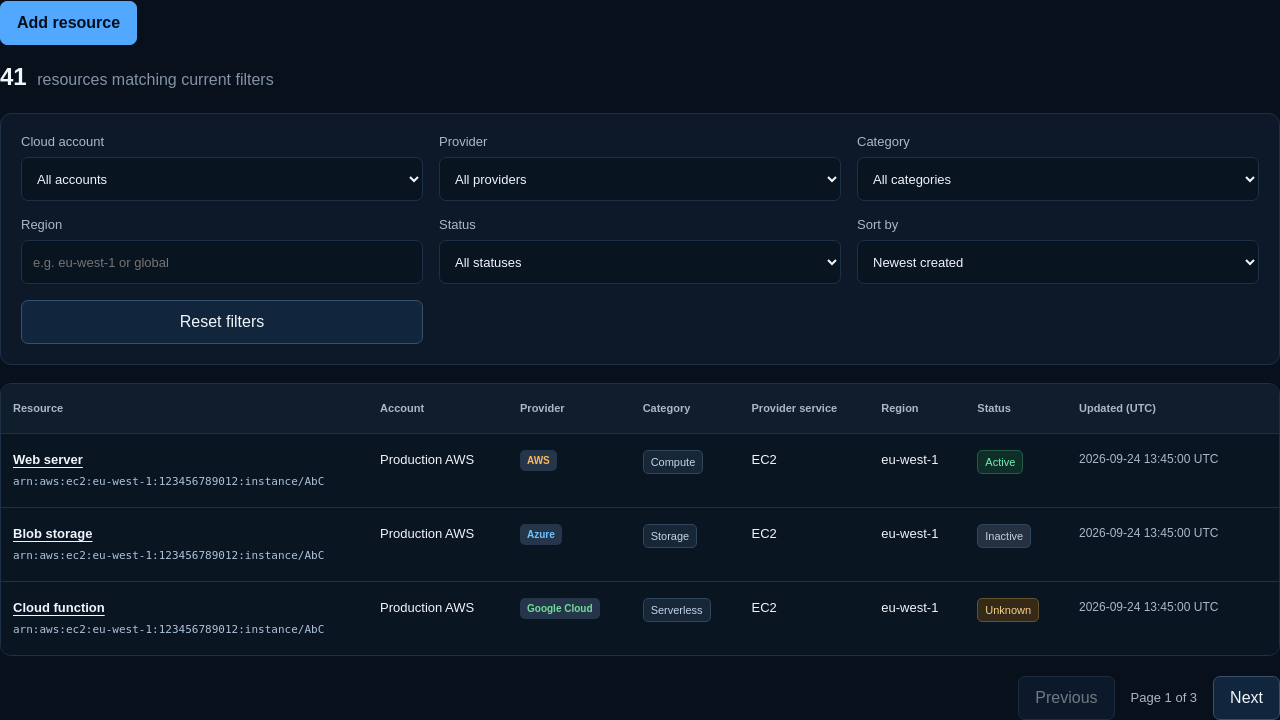
it: Cloud resource inventory › changing Category resets pagination and sends the selected value
The image size is (1280, 720).
(page scrolled)
Expected: the table is shown, [1,384,1279,654]
Expected: the dropdown labelled "Cloud account" is enabled, [21,157,423,201]
Click the button "Next".
click(1247, 698)  # box [1213,676,1279,719]
(page scrolled)
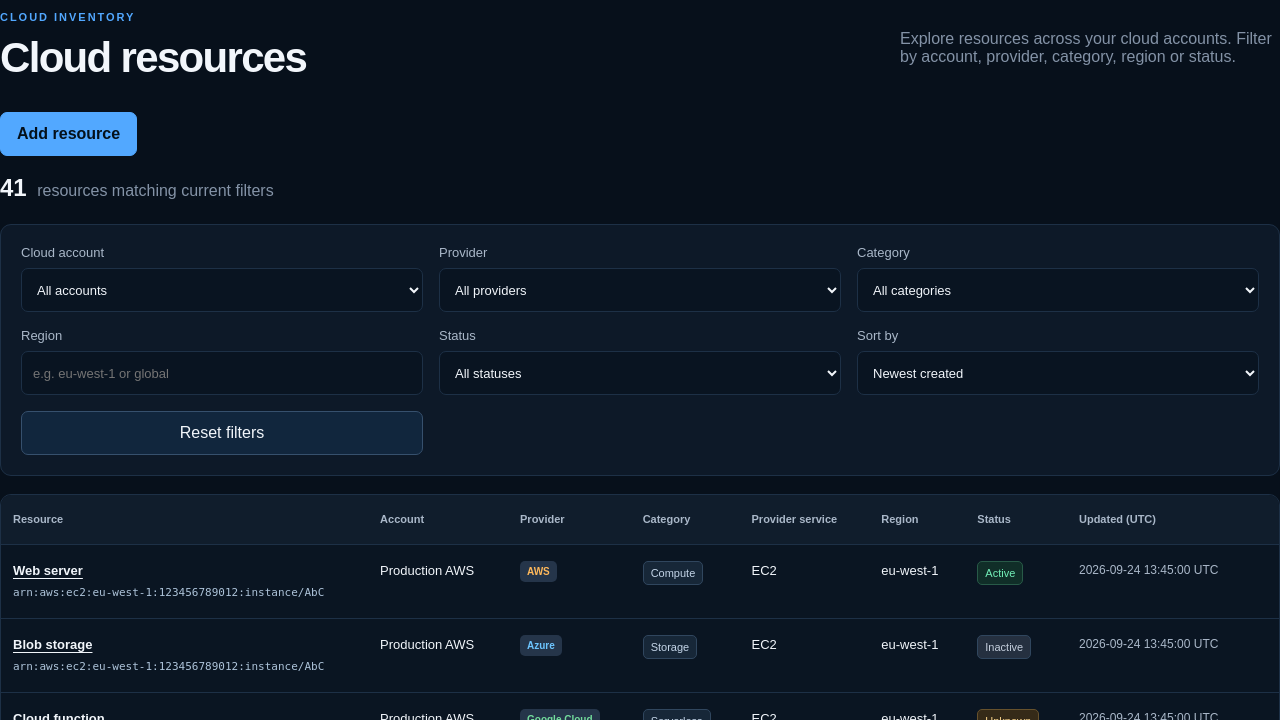
Select "Storage" in the dropdown labelled "Category" at (1058, 290), box [857,268,1259,312]
(page scrolled)
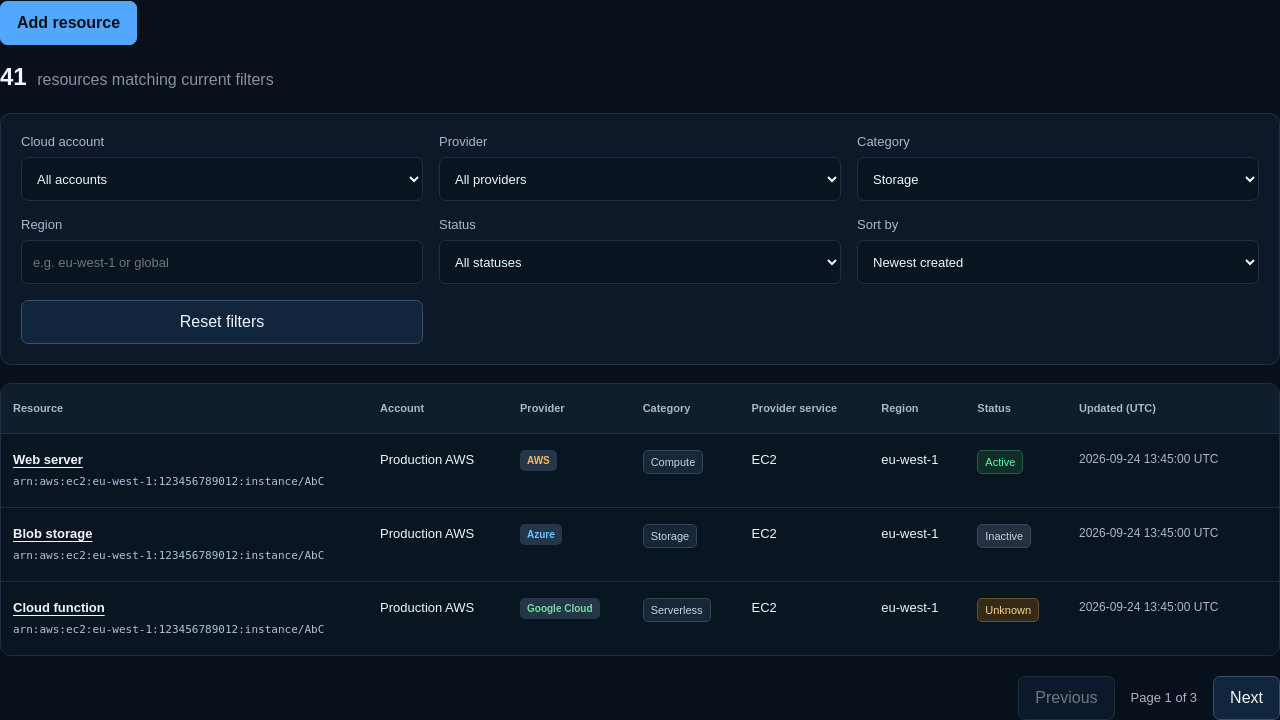
Now the text "Page 1 of 3" is shown, box [1131,690,1197,705]
